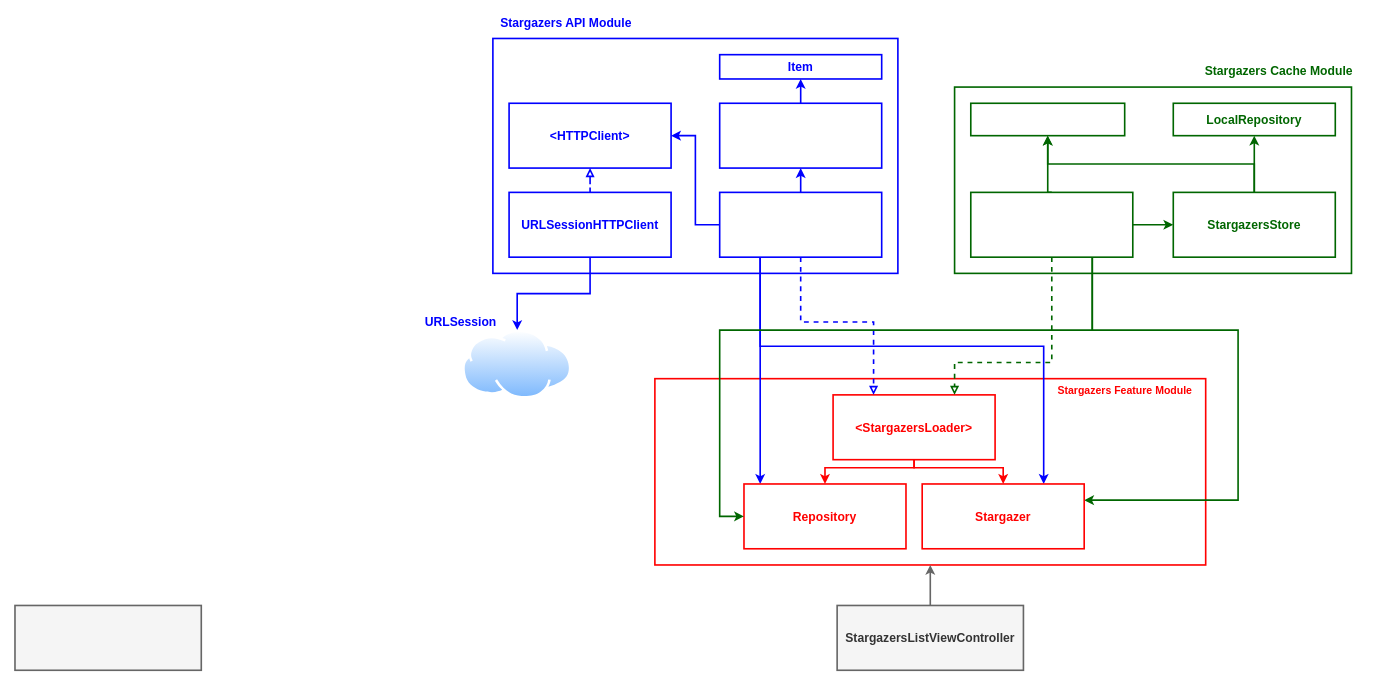
The diagram is 1373 pixels wide and 684 high, and some of its shapes have lost their labels. Here are the shapes that lost their labels. From the top down, the centre of each, then its label:
point (800, 135): RemoteStargazersMapper
point (1047, 119): LocalStargazer
point (800, 224): RemoteStargazersLoader
point (1051, 224): LocalStargazersLoader
point (108, 637): InsertRepoInfoViewController
